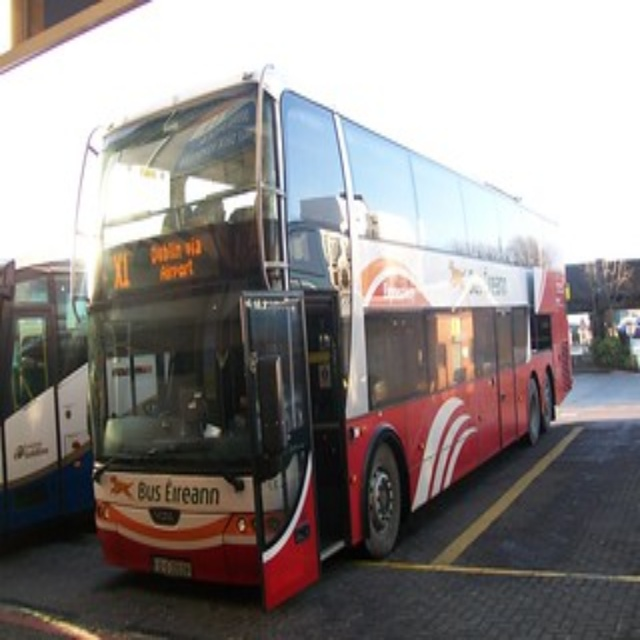Bus: (74, 61, 568, 611)
